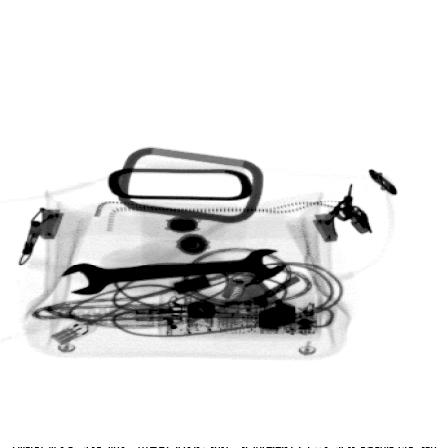Wrench: (58, 248, 289, 297)
